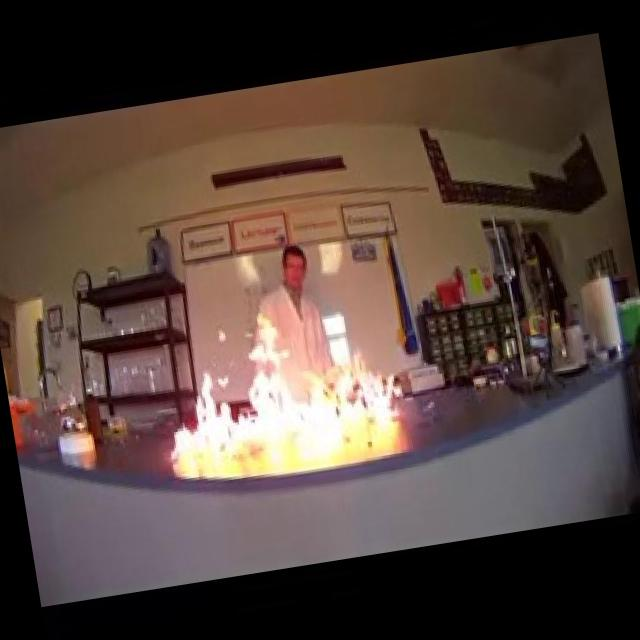Fire: (147, 322, 409, 466)
